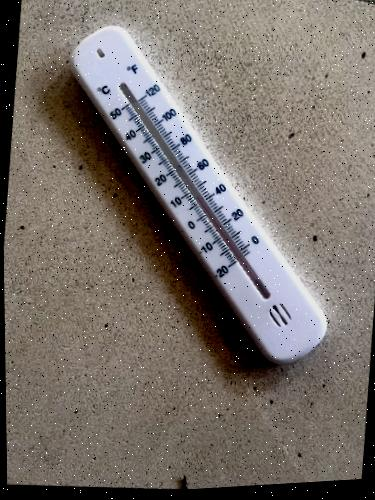thermo: (65, 17, 332, 370)
